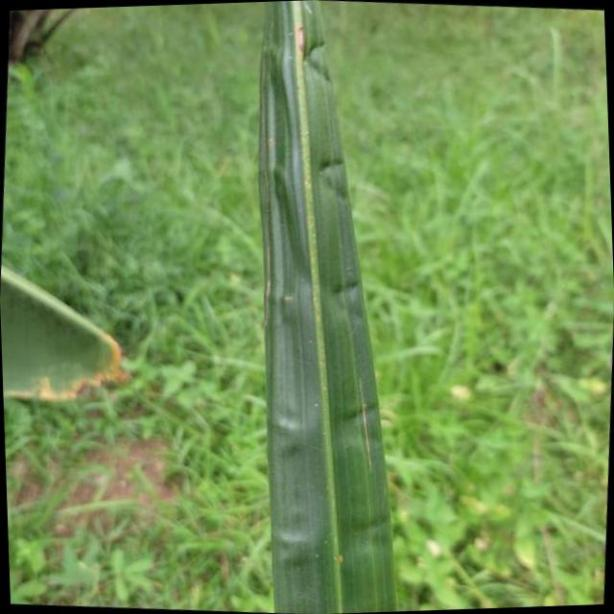Boron: (258, 0, 402, 614)
